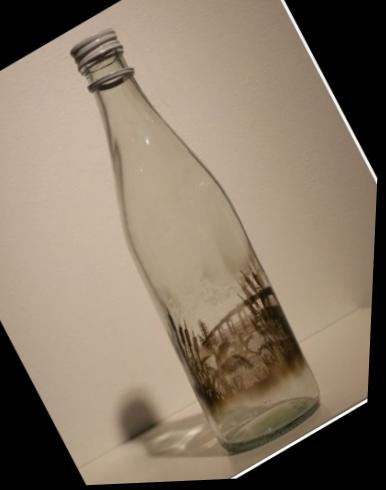glass: (7, 0, 356, 476)
